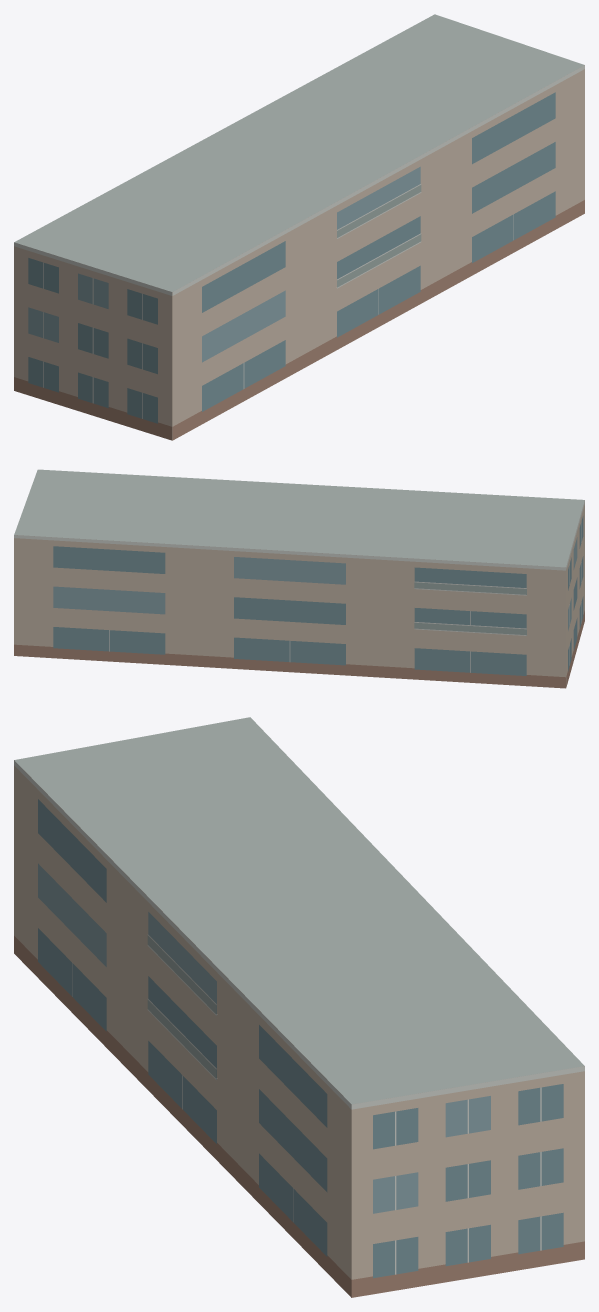
File: survey-upis-32629793.glb
The picture shows the model from 3 angles, top to bottom: view 1: azimuth 30°, elevation 25°; view 2: azimuth 150°, elevation 25°; view 3: azimuth 270°, elevation 25°; orthographic projection. The views are drawn at different scales.
Parts seen in each view (by area): view 1: survey-upis-32629793.tmp; view 2: survey-upis-32629793.tmp; view 3: survey-upis-32629793.tmp.
Boxes of the visible parts, box(x1,y1,x2,y2) form: survey-upis-32629793.tmp: box(14, 14, 584, 440); survey-upis-32629793.tmp: box(14, 469, 584, 688); survey-upis-32629793.tmp: box(14, 717, 584, 1297).
Bounding box in the file's own units: 39.32 × 9.15 × 24.49.
